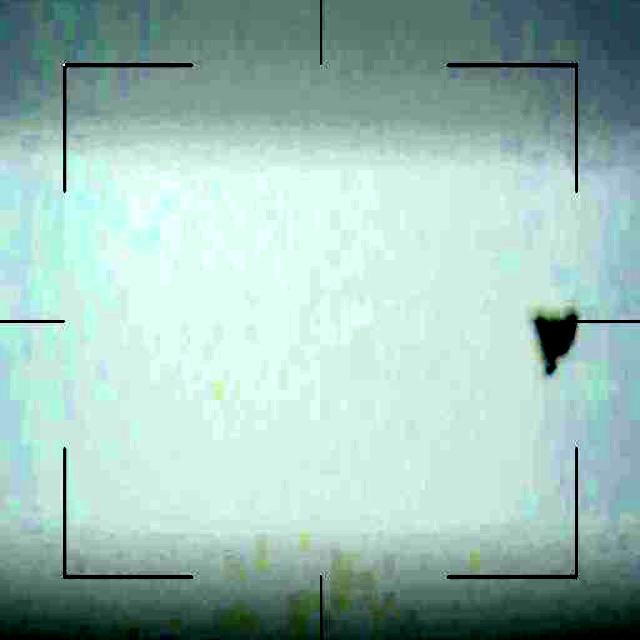bird: (529, 306, 586, 384)
